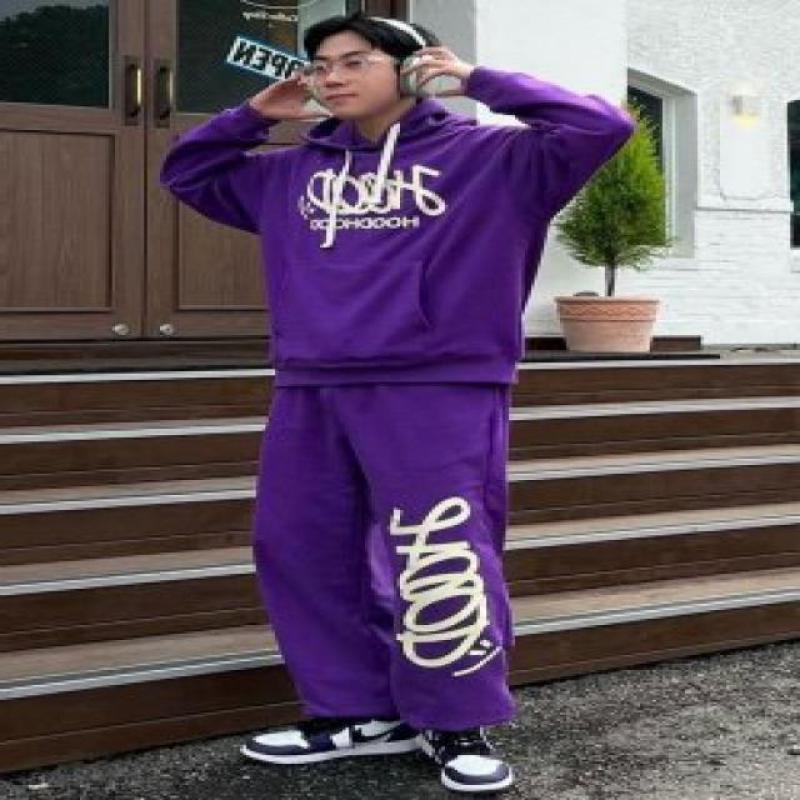sweater: (156, 63, 635, 386)
trousers: (248, 377, 518, 733)
